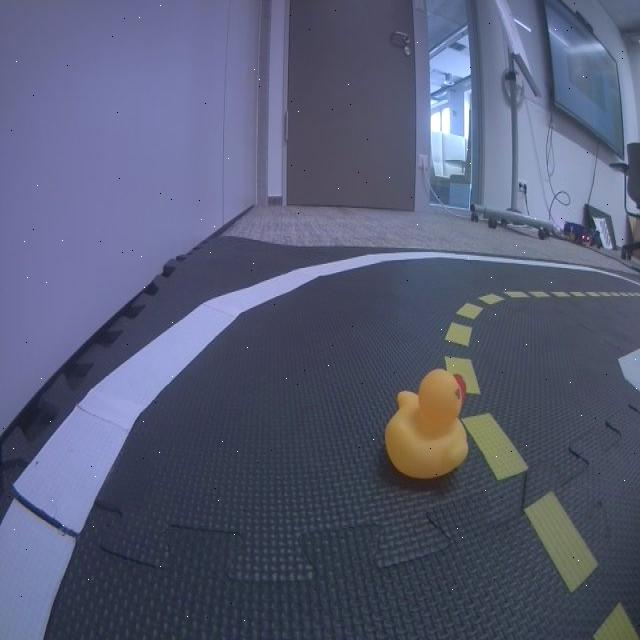duckie: (383, 368, 470, 480)
